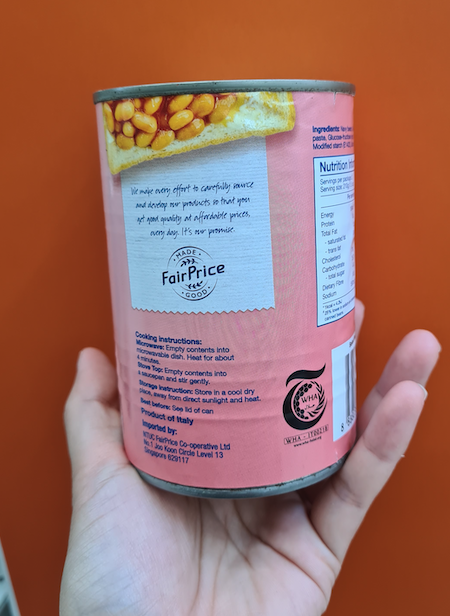Canned_Baked_Beans: (110, 89, 344, 473)
